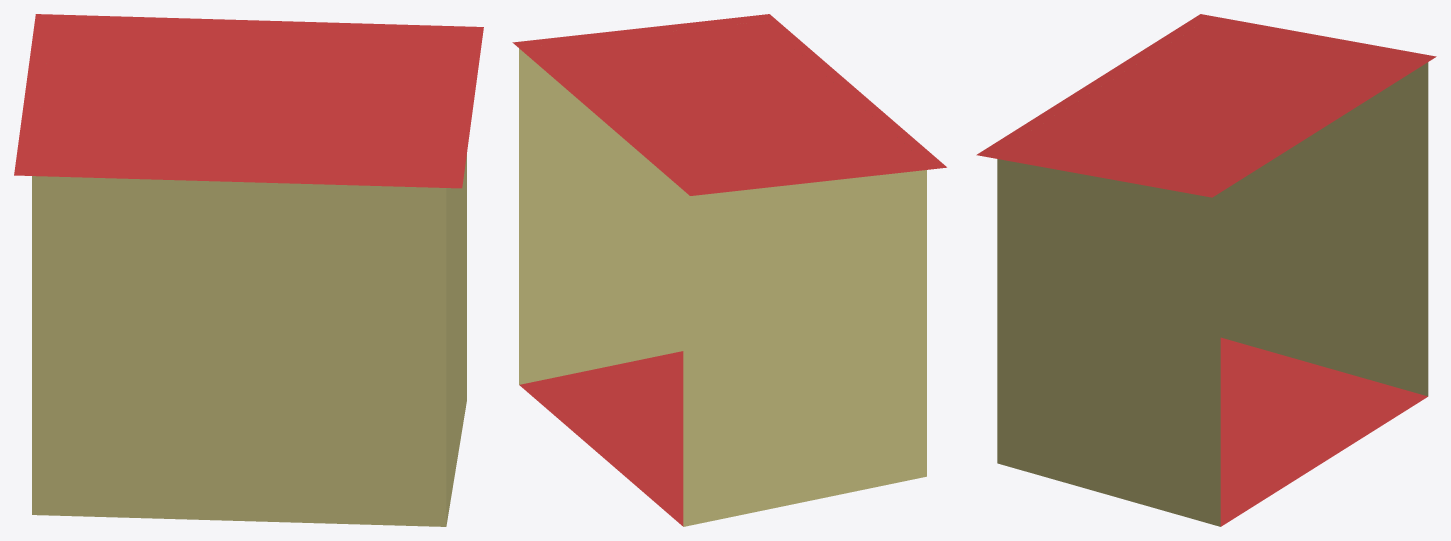
3 renders of one model, left to right at view 1: azimuth 30°, elevation 25°; view 2: azimuth 150°, elevation 25°; view 3: azimuth 270°, elevation 25°, orthographic. The views are drawn at different scales.
Size of the model in its own units: 8.11 by 7.58 by 6.07.
